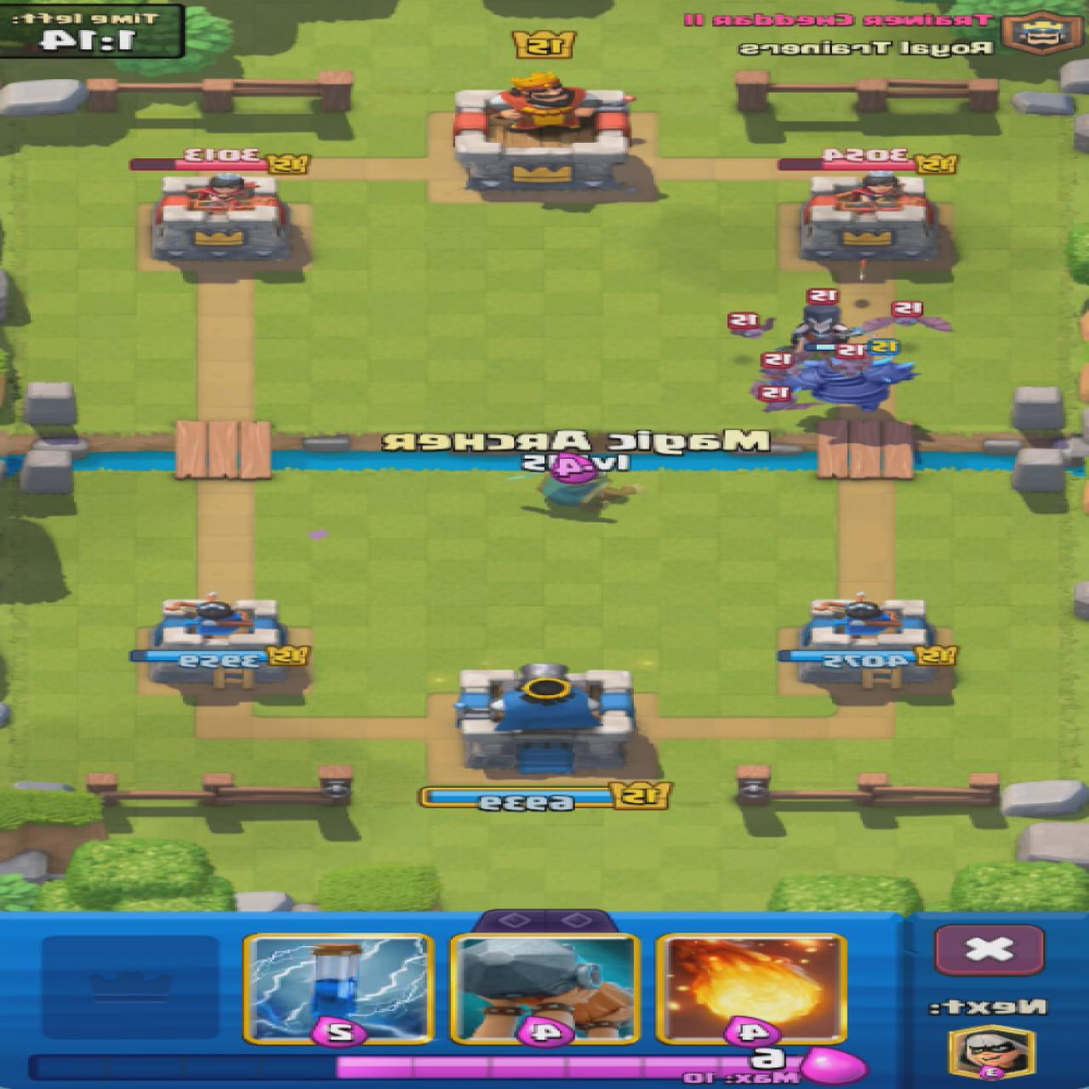Enemy-Bat: (858, 303, 952, 331), (764, 387, 815, 411), (764, 351, 797, 379), (734, 318, 773, 336), (828, 357, 869, 374), (751, 379, 762, 397)
Enemy-KingTower: (455, 73, 632, 195)
Enemy-NightWitch: (793, 303, 860, 355)
Enemy-PrincessTower: (802, 168, 941, 259), (155, 175, 290, 261)
